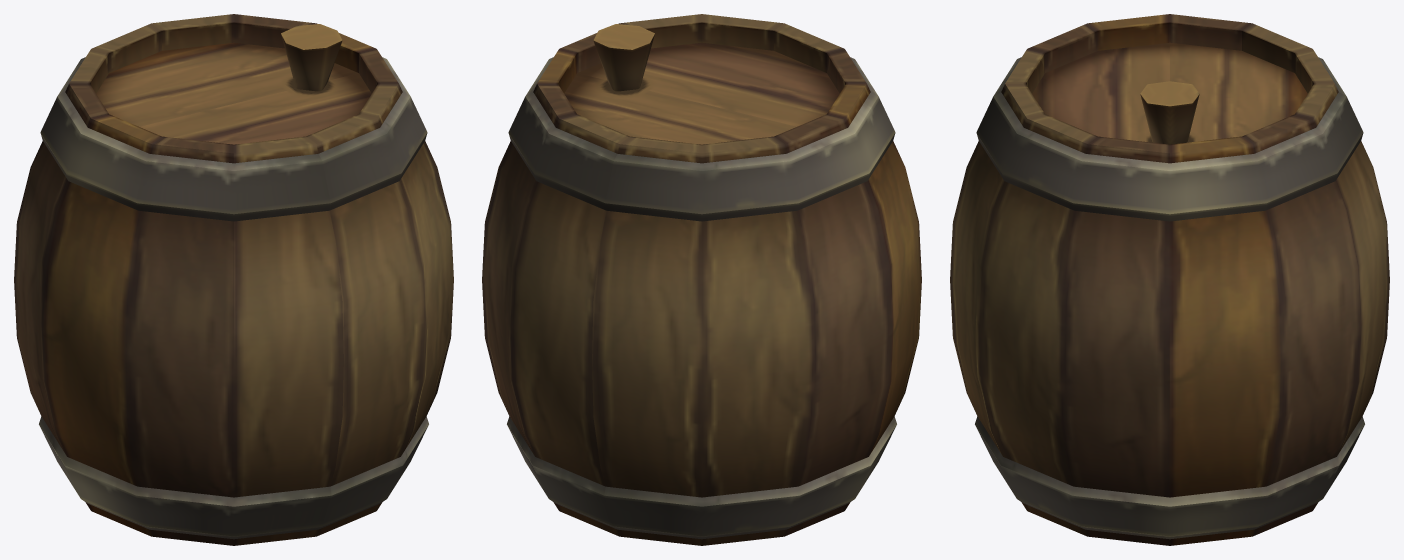
The model's file is DRP004_01.fbx.
The picture shows the model from 3 angles, left to right: view 1: azimuth 30°, elevation 25°; view 2: azimuth 150°, elevation 25°; view 3: azimuth 270°, elevation 25°; orthographic projection.
Visible parts, largest first — view 1: box_ms; view 2: box_ms; view 3: box_ms.
Part boxes in pixels (x1,y1,x2,y2): box_ms: [14, 14, 453, 545]; box_ms: [482, 14, 921, 545]; box_ms: [950, 14, 1389, 545].
Size of the model in its own units: 100 by 105 by 100.
